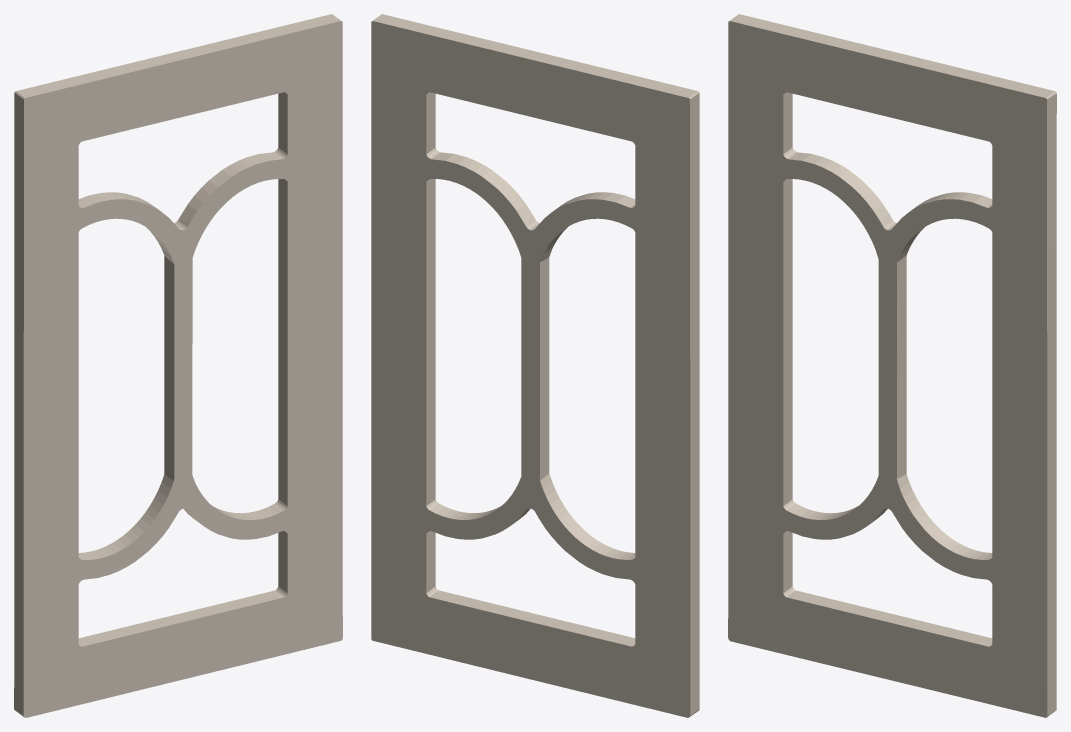
Rendered from NRD CAM 111.glb.
3 views of the same model, side by side, from view 1: azimuth 30°, elevation 25°; view 2: azimuth 150°, elevation 25°; view 3: azimuth 330°, elevation 25° (orthographic).
Parts seen in each view (by area): view 1: NRD CAM 111; view 2: NRD CAM 111; view 3: NRD CAM 111.
Boxes of the visible parts, bbox=[...] form: NRD CAM 111: bbox=[14, 14, 342, 717]; NRD CAM 111: bbox=[371, 14, 699, 717]; NRD CAM 111: bbox=[728, 14, 1056, 717].
Size of the model in its own units: 0.3499 by 0.6495 by 0.018.
